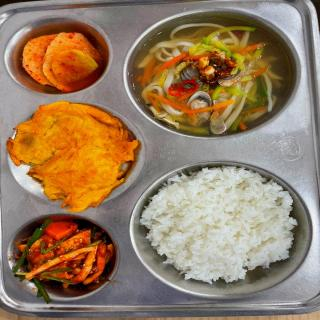Nasi: (152, 163, 287, 292)
